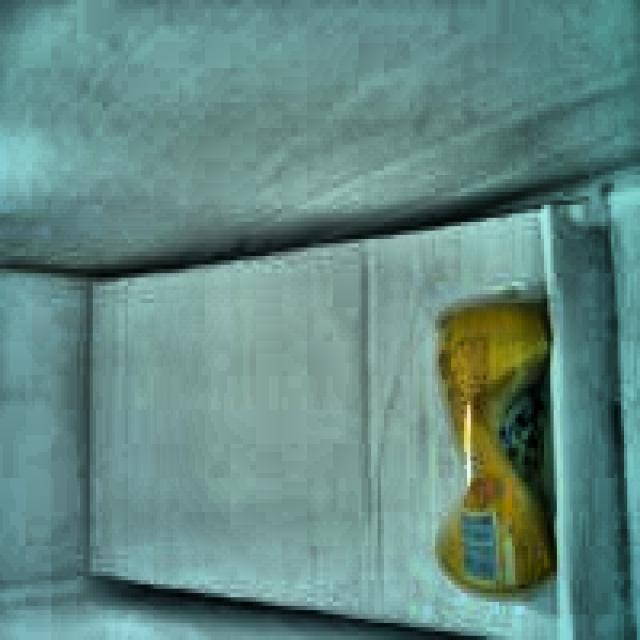Cans: (394, 293, 562, 613)
